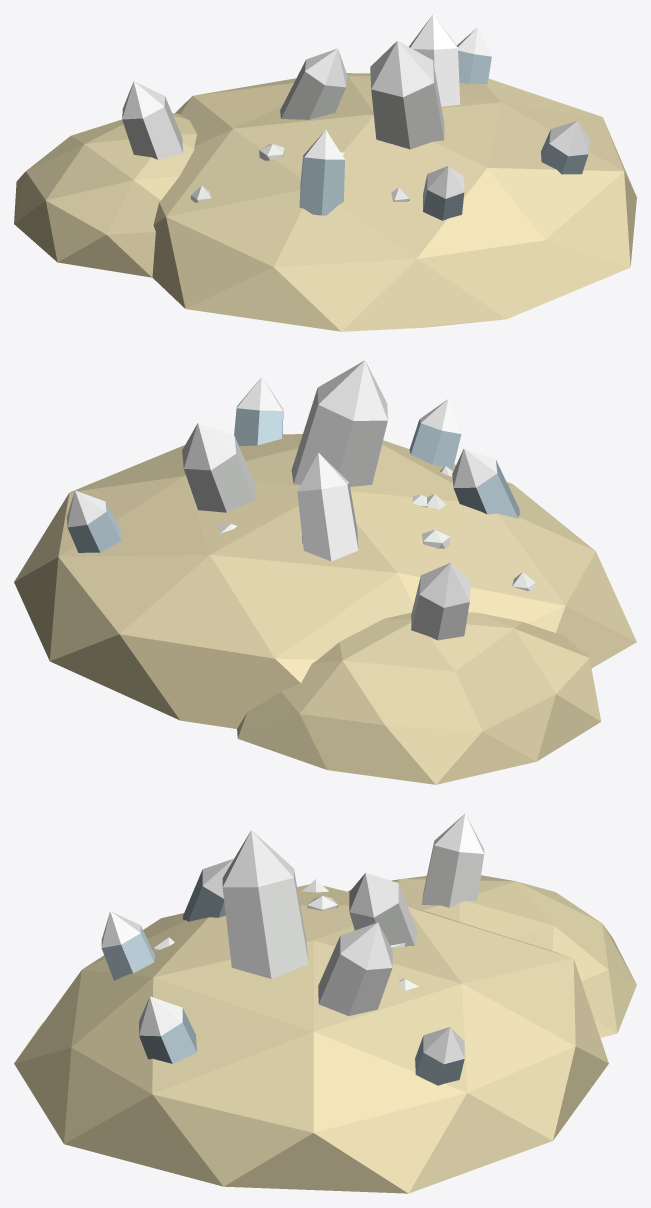
Rendered from silicon_deposit.glb.
The picture shows the model from 3 angles, top to bottom: view 1: azimuth 30°, elevation 25°; view 2: azimuth 150°, elevation 25°; view 3: azimuth 270°, elevation 25°; orthographic projection. The views are drawn at different scales.
Visible parts, largest first — view 1: silicon_deposit; view 2: silicon_deposit; view 3: silicon_deposit.
Boxes of the visible parts, <box> form: silicon_deposit: <box>14,14,636,331</box>; silicon_deposit: <box>14,360,636,784</box>; silicon_deposit: <box>14,813,636,1193</box>.
Size of the model in its own units: 2.54 by 0.9594 by 2.35.
Materials: 1 (1 with a texture image).
